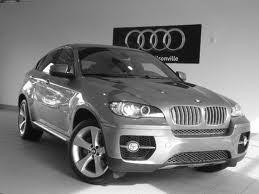car: (16, 46, 251, 185)
